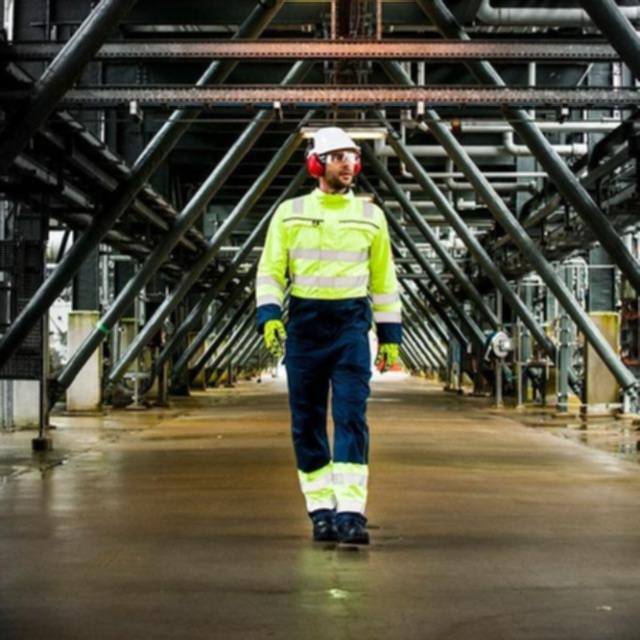goggles: (274, 146, 330, 168)
helmet: (266, 125, 346, 179)
vest: (237, 187, 387, 325)
